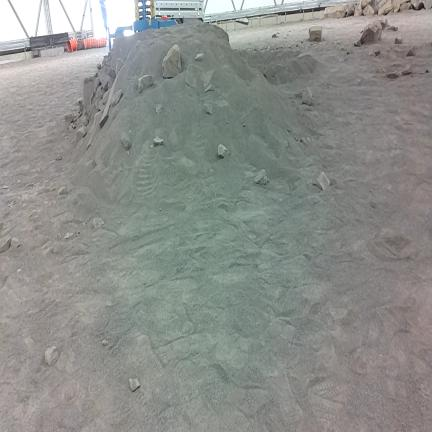Rock: (163, 45, 181, 78), (361, 22, 382, 44), (83, 77, 95, 110), (45, 346, 59, 366), (185, 65, 197, 88), (324, 5, 345, 18), (316, 171, 330, 190), (98, 70, 111, 90), (139, 75, 153, 92), (371, 0, 389, 13), (111, 90, 123, 108), (379, 0, 393, 15), (392, 0, 409, 12), (120, 132, 131, 150), (386, 66, 400, 80), (100, 107, 109, 128), (302, 88, 313, 105), (76, 126, 86, 143), (309, 27, 321, 41), (0, 237, 11, 252), (255, 170, 266, 184), (218, 144, 229, 158), (264, 67, 275, 79), (346, 2, 355, 16), (363, 5, 374, 16), (354, 1, 362, 16), (411, 0, 423, 10), (130, 379, 140, 391), (116, 58, 123, 75), (11, 237, 21, 248), (93, 218, 104, 228), (77, 98, 84, 113), (65, 113, 74, 124), (204, 103, 212, 115), (400, 2, 410, 11), (58, 187, 68, 196), (402, 65, 411, 75), (360, 0, 371, 8), (154, 137, 163, 146), (380, 19, 388, 29), (423, 0, 431, 10), (195, 53, 204, 61), (407, 48, 415, 56), (205, 85, 214, 92), (64, 233, 74, 239), (156, 104, 162, 113), (388, 26, 398, 31), (373, 50, 380, 56), (354, 40, 361, 46), (395, 38, 402, 44), (56, 154, 62, 160), (68, 125, 74, 131), (102, 340, 107, 346), (97, 64, 101, 70), (272, 34, 277, 38), (425, 69, 429, 73)
